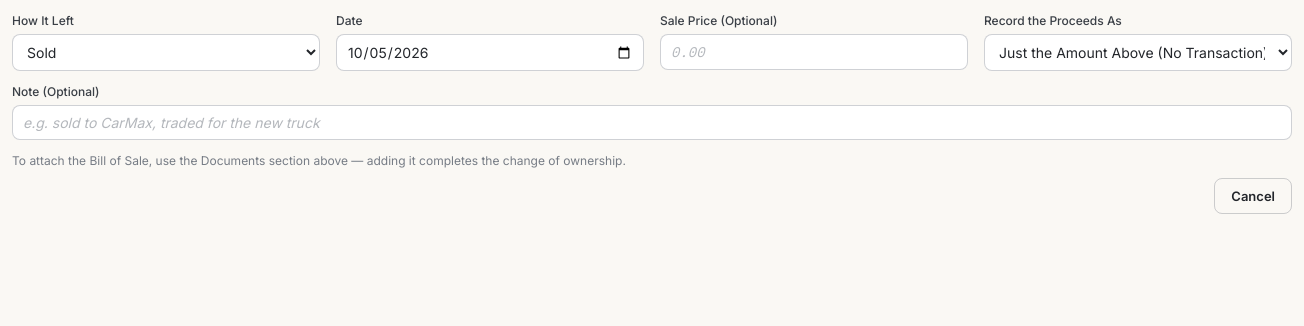
VehicleDisposeFields › shows the empty candidate hint when no transactions can be linked
Check: the text "How It Left" is shown, box 12,13 -> 74,28
Select "Link an Existing Transaction" in the dropdown labelled "Record the Proceeds As" at x=1138, y=52, box 984,34 -> 1292,71
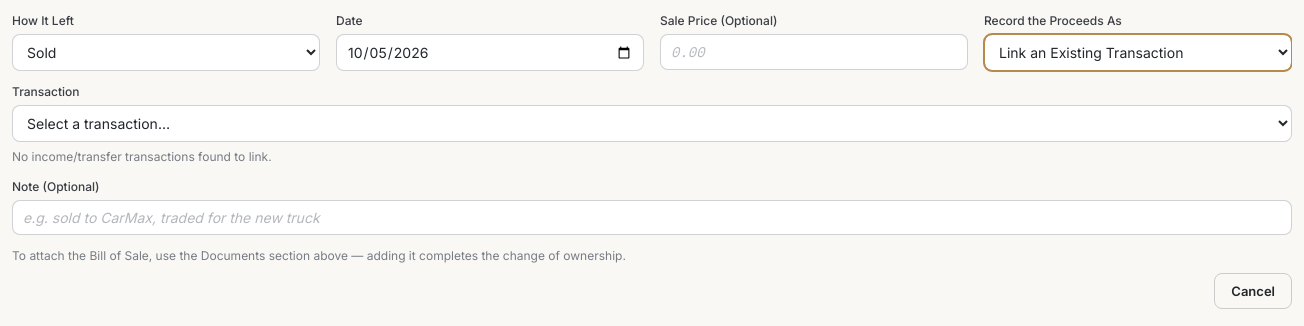
Check: the text "No income/transfer transactions found to link." is shown, box 12,149 -> 272,164
